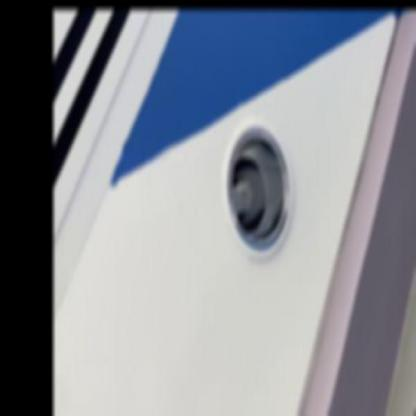light_off: (210, 94, 307, 270)
